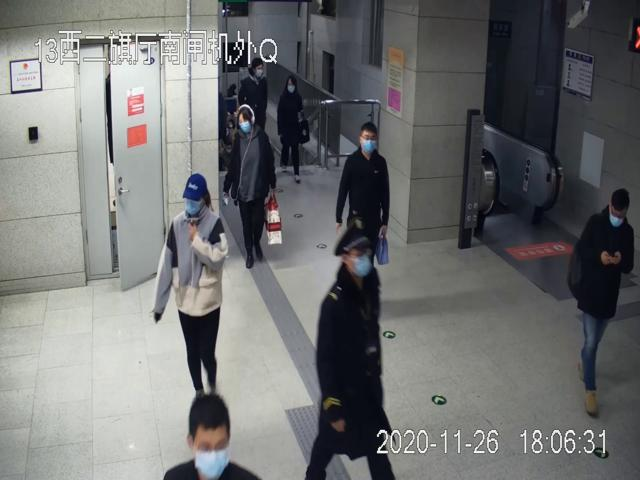person: (154, 175, 227, 398), (579, 186, 633, 415), (336, 120, 391, 282), (223, 105, 275, 268), (277, 74, 309, 181)
